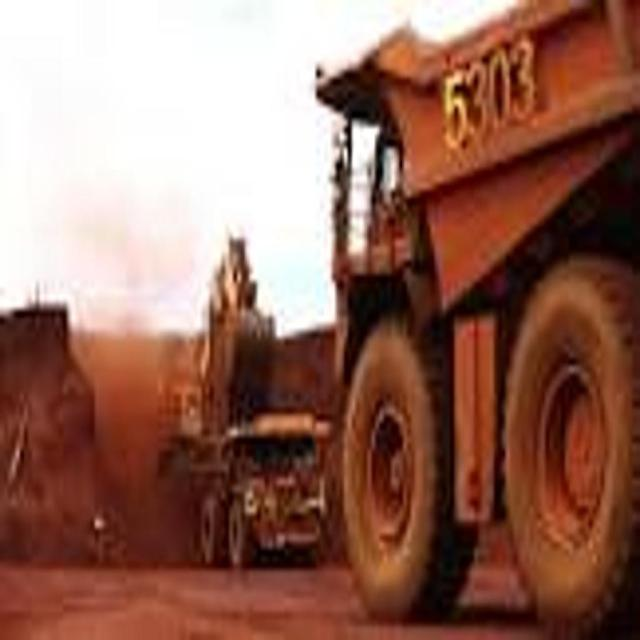dump_truck: (307, 0, 640, 640)
